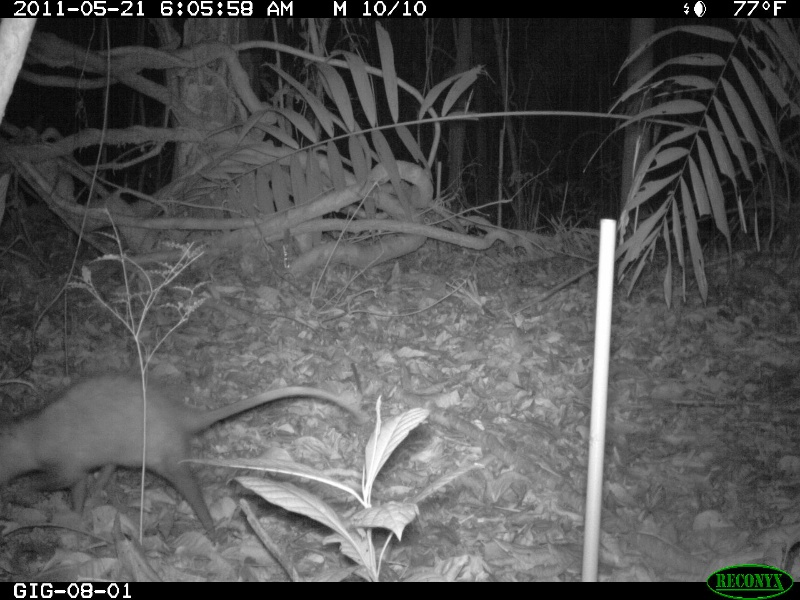opossum: (1, 367, 360, 533)
